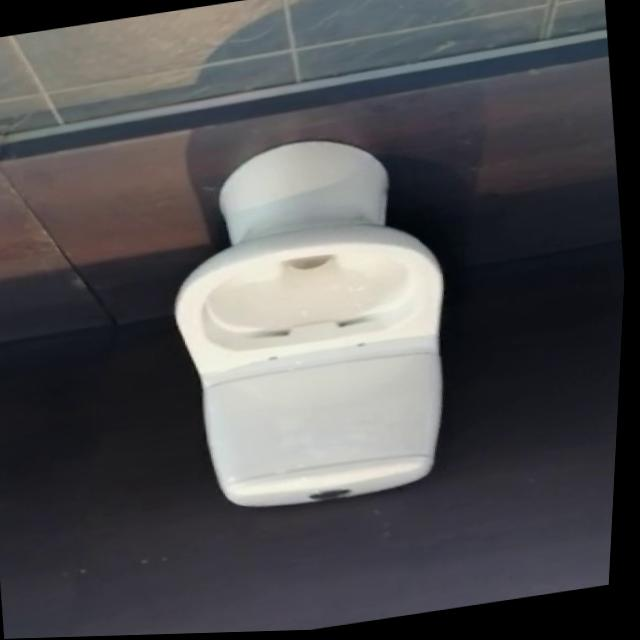toilet: (148, 124, 477, 526)
